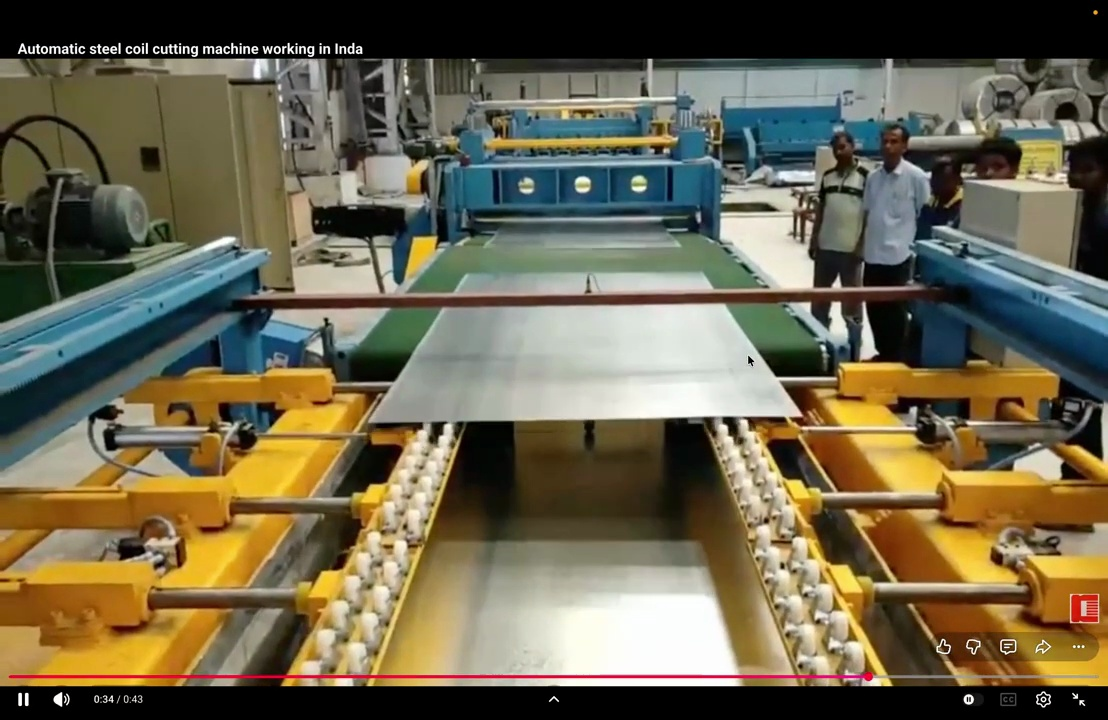steel plate: (372, 305, 799, 423), (486, 220, 678, 249)
